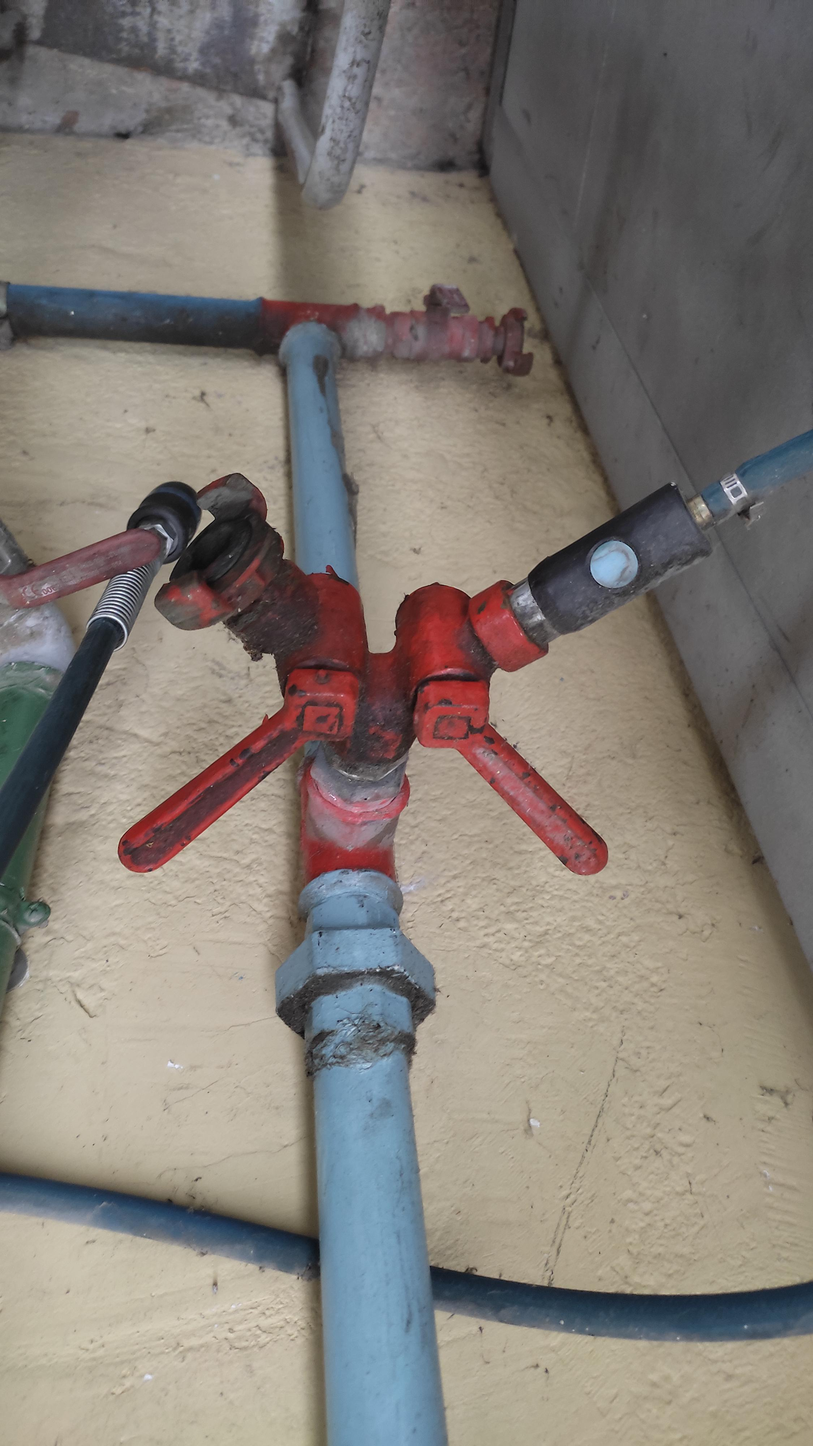closed valve: (35, 523, 418, 924), (338, 546, 700, 925)
